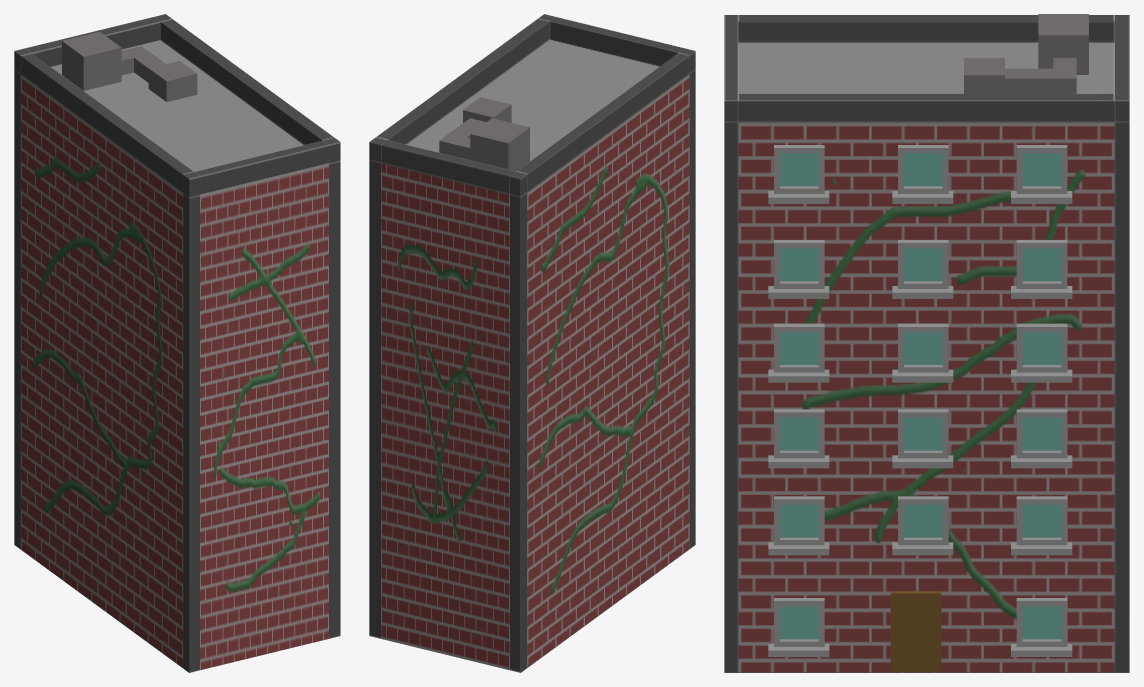
The model's file is Tallapartment.fbx.
The picture shows the model from 3 angles, left to right: view 1: azimuth 30°, elevation 25°; view 2: azimuth 150°, elevation 25°; view 3: azimuth 270°, elevation 25°; orthographic projection. The views are drawn at different scales.
Parts seen in each view (by area): view 1: polySurface8; view 2: polySurface8; view 3: polySurface8.
Boxes of the visible parts, x1,y1,x2,y2 form: polySurface8: (14,14,340,672); polySurface8: (369,14,695,672); polySurface8: (724,14,1129,672).
Bounding box in the file's own units: 4.31 × 12.86 × 8.
